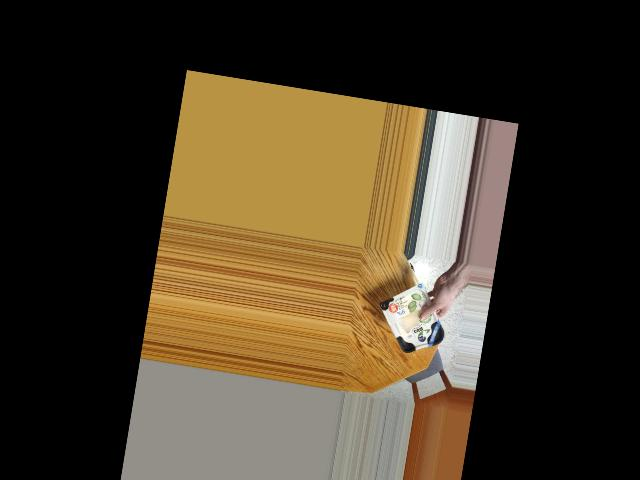cheese: (377, 289, 454, 356)
